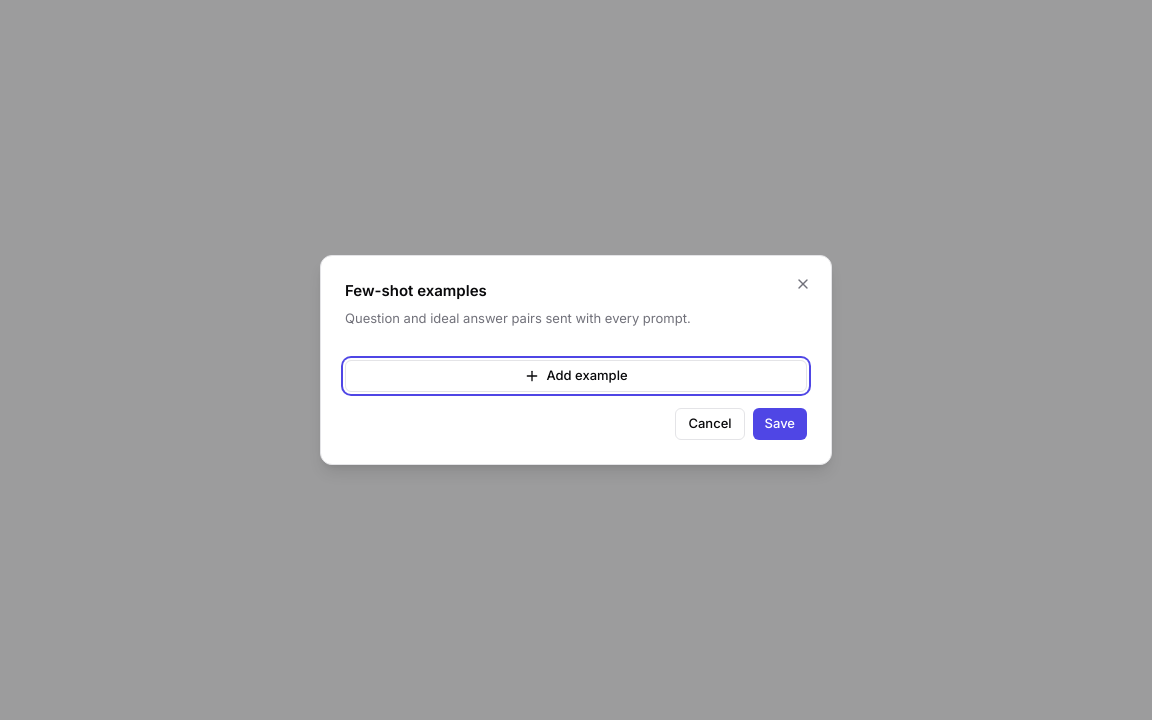
it: FewShotDialog › adds examples up to five
The image size is (1152, 720).
Click the button "Add example" at (576, 376), box [345,360,807,392]
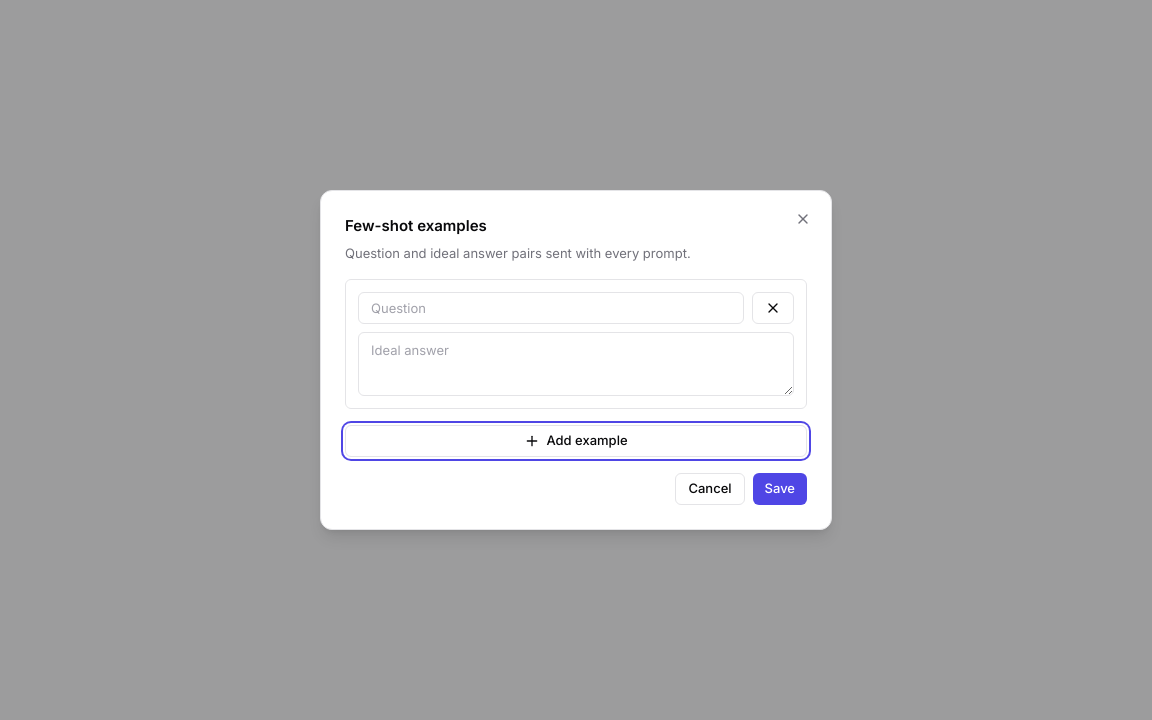
Click the button "Add example" at (576, 441), box [345,425,807,457]
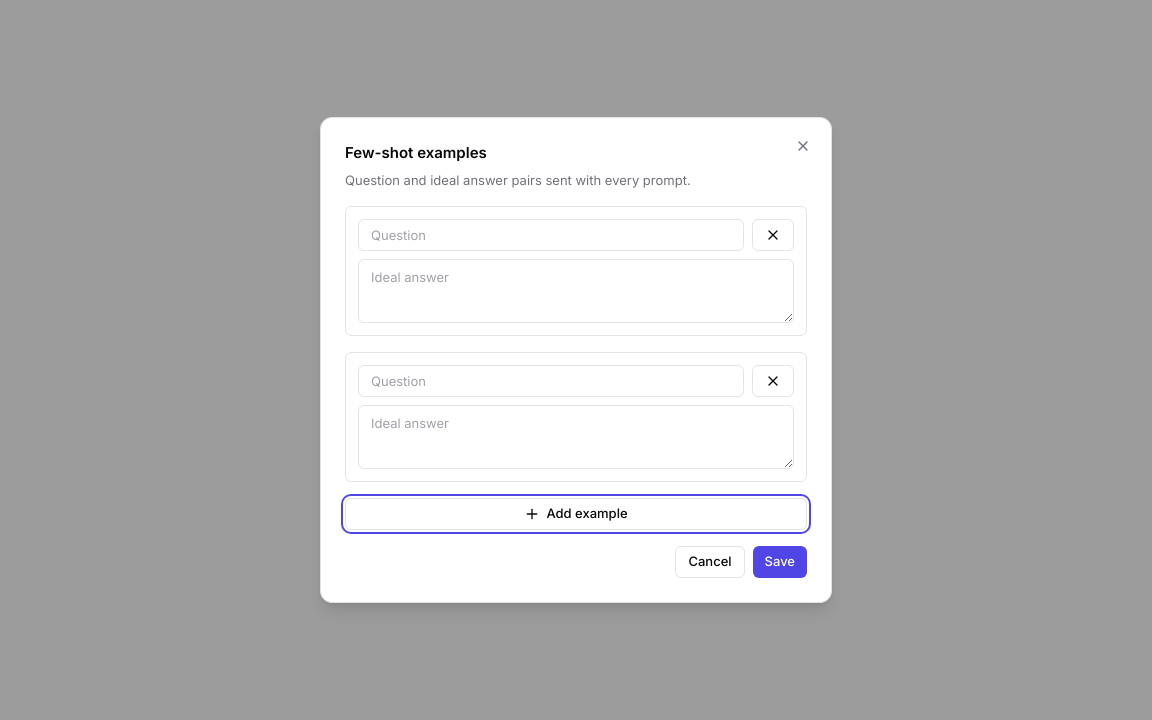
Click the button "Add example" at (576, 514), box [345,498,807,530]
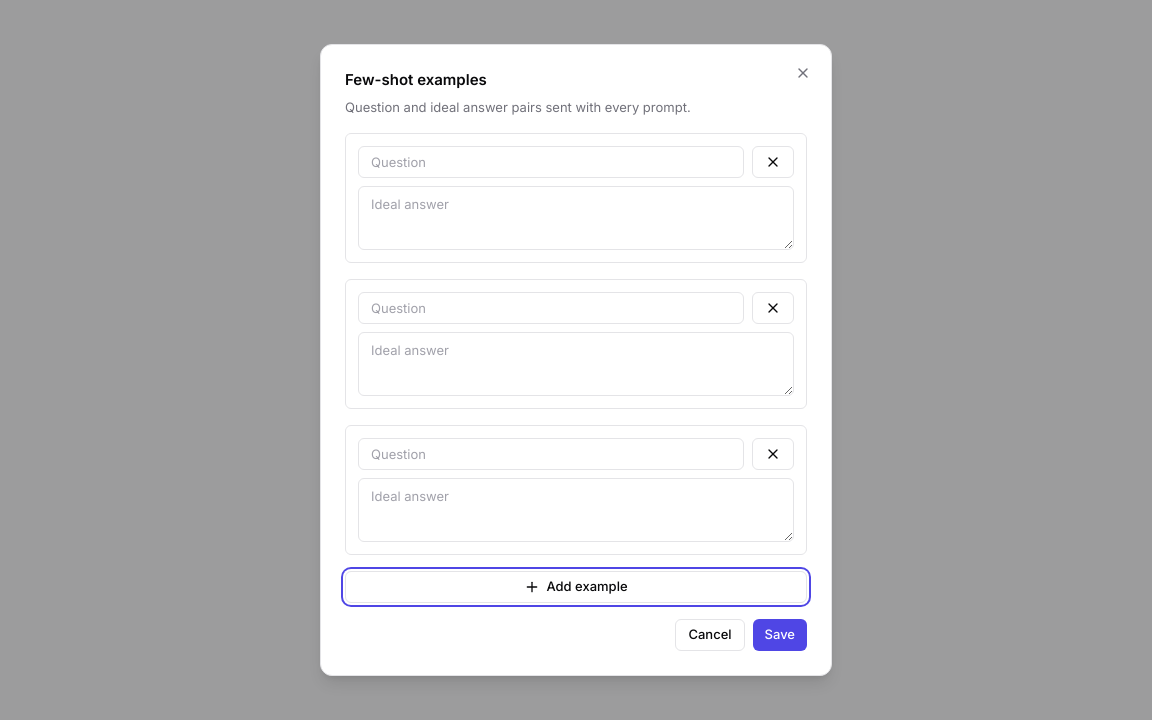
Click the button "Add example" at (576, 587), box [345,571,807,603]
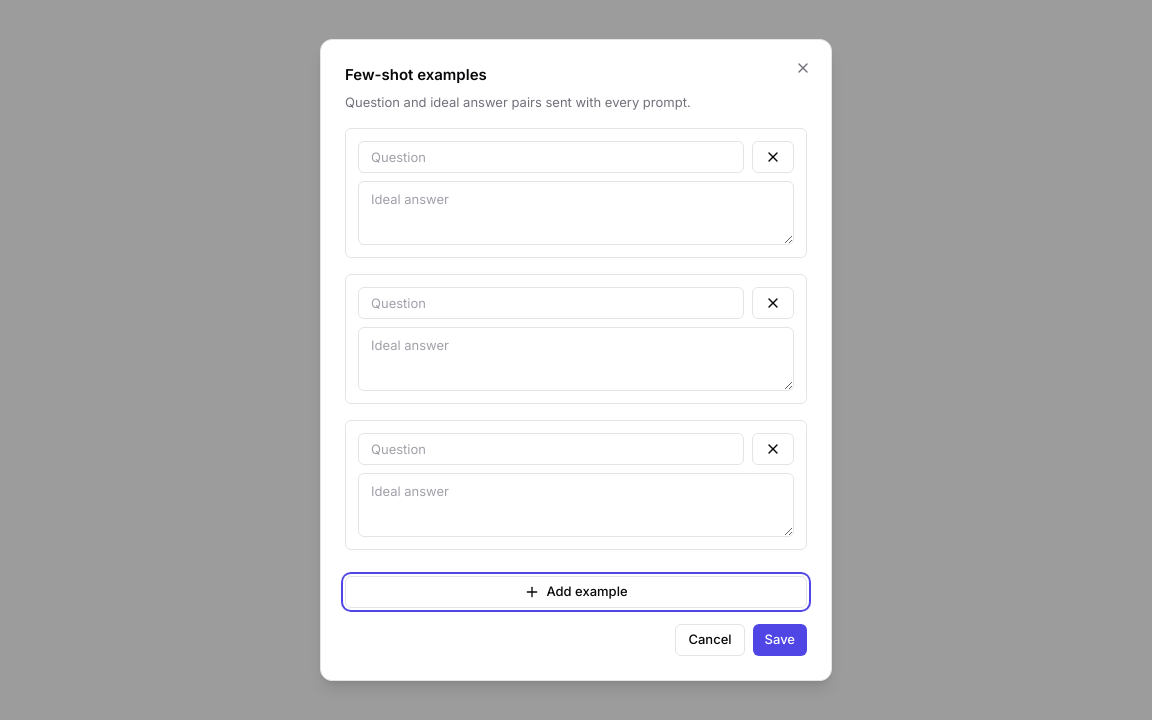
Click the button "Add example" at (576, 592), box [345,576,807,608]
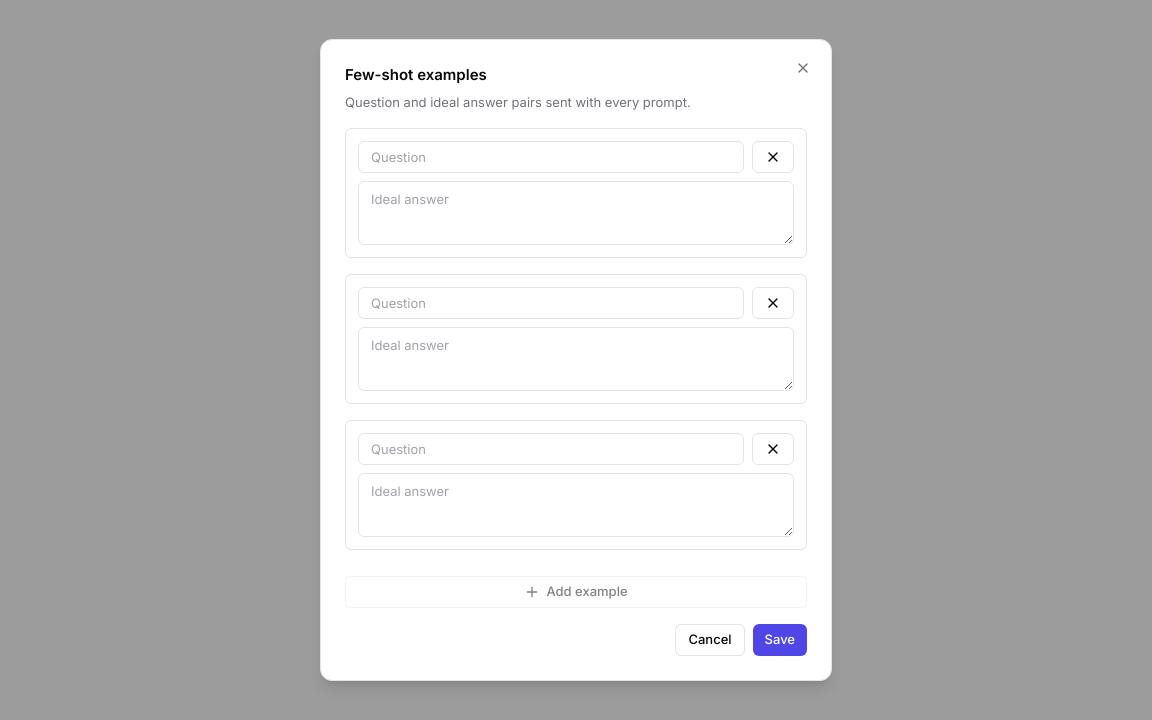
Now the number of fields labelled "Question" is 5
Now the button "Add example" is disabled, box [345,576,807,608]
